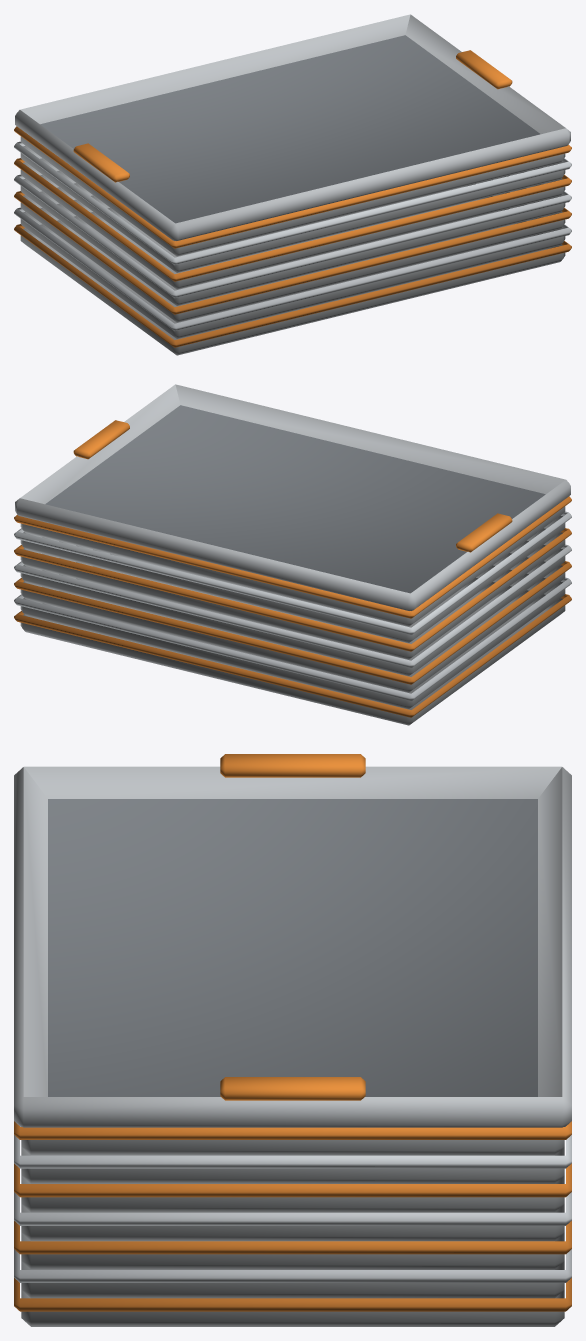
Rendered from SM_SheetPan_Stack_01.glb.
3 views of the same model, one above another, from view 1: azimuth 30°, elevation 25°; view 2: azimuth 150°, elevation 25°; view 3: azimuth 270°, elevation 25° (orthographic). The views are drawn at different scales.
Visible parts, largest first — view 1: SM_SheetPan_Stack_01; view 2: SM_SheetPan_Stack_01; view 3: SM_SheetPan_Stack_01.
Boxes of the visible parts, x1,y1,x2,y2 form: SM_SheetPan_Stack_01: (14, 14, 571, 355); SM_SheetPan_Stack_01: (14, 384, 571, 725); SM_SheetPan_Stack_01: (14, 754, 571, 1326).
Size of the model in its own units: 0.66 by 0.222 by 0.46.
Materials: 1 (1 with a texture image).
